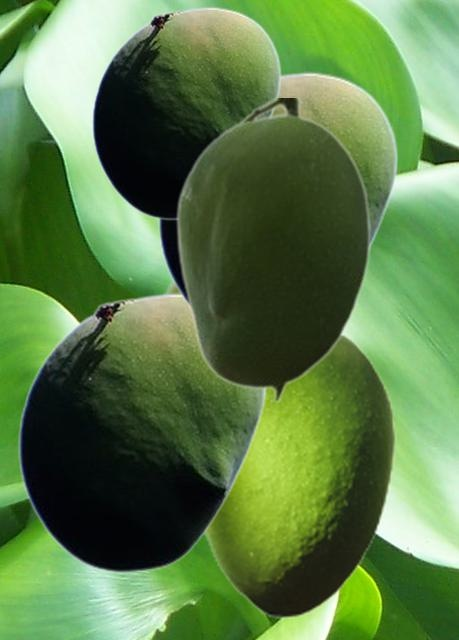green_mango: (17, 292, 267, 572), (174, 98, 370, 403), (157, 71, 398, 307), (202, 332, 395, 617), (91, 6, 281, 219)
